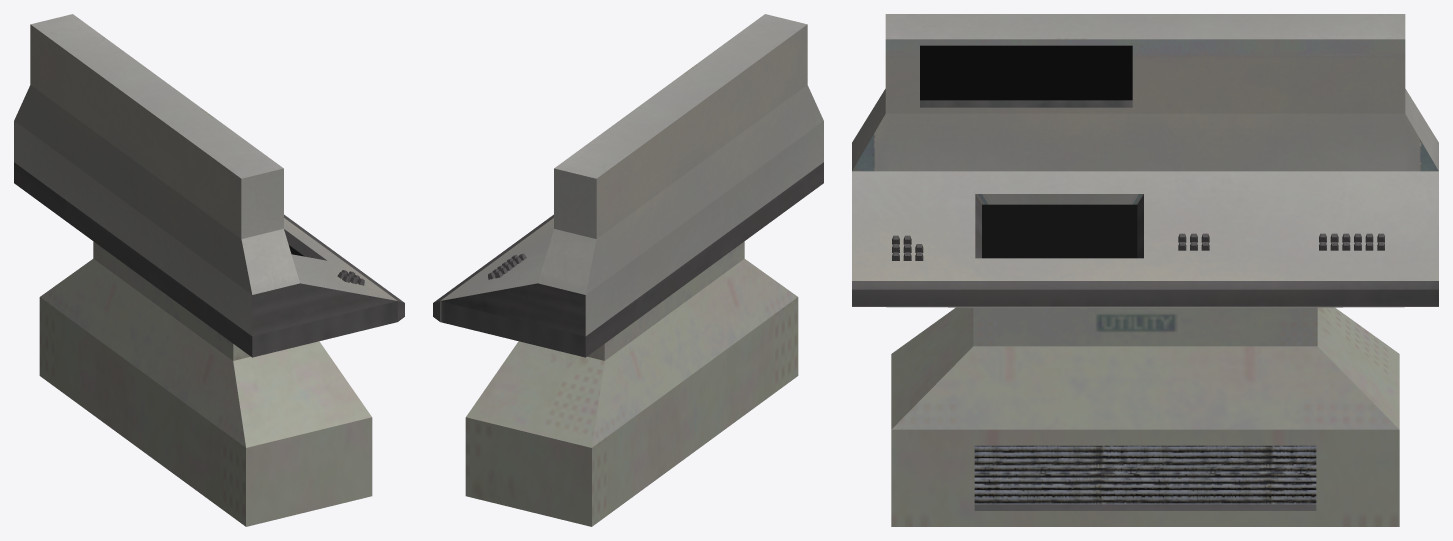
File: reroute_sidepanel.fbx
3 views of the same model, side by side, from view 1: azimuth 30°, elevation 25°; view 2: azimuth 150°, elevation 25°; view 3: azimuth 270°, elevation 25° (orthographic). The views are drawn at different scales.
Visible parts, largest first — view 1: Cube.001; view 2: Cube.001; view 3: Cube.001.
Part boxes in pixels (x1,y1,x2,y2): Cube.001: (14,14,404,526); Cube.001: (433,14,823,526); Cube.001: (852,14,1438,526).
Bounding box in the file's own units: 637 × 1403 × 1723.
